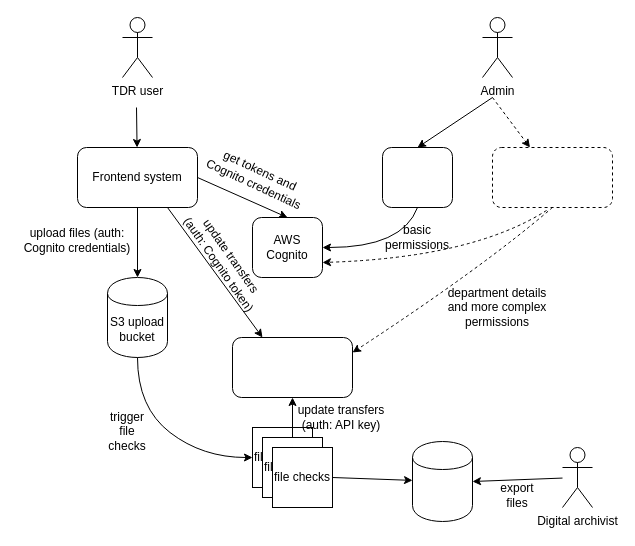
Image size: 635x546. Some labels were removed from this diagram. Here are the shapes that lost their labels. From the top down, the box of each, then its label:
(382, 146, 452, 208): AWS console
(492, 146, 612, 208): User management system (if needed)
(232, 336, 352, 398): API
(412, 440, 472, 522): clean S3 bucket
